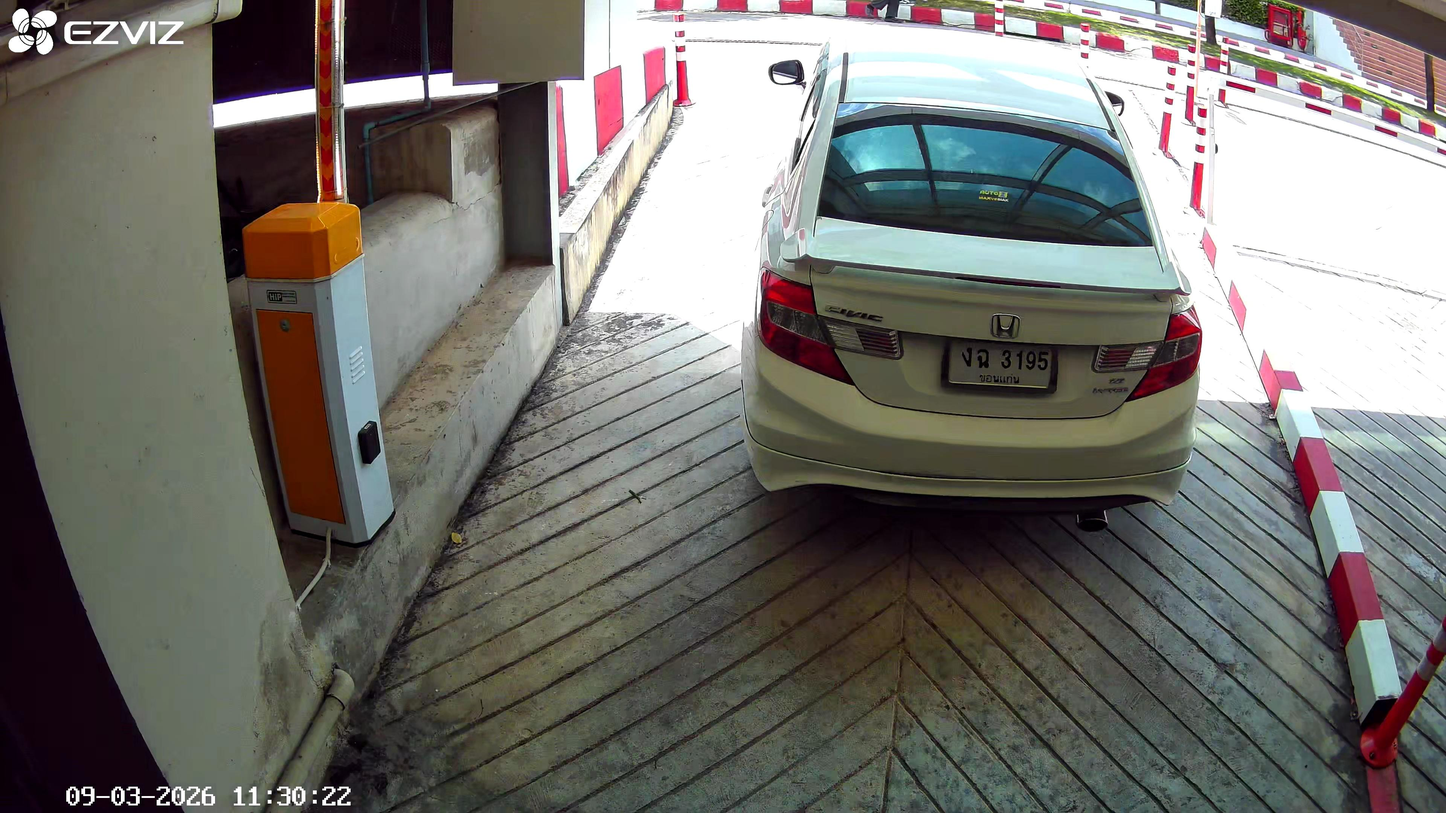car: (744, 27, 1204, 520)
license-plate: (940, 339, 1058, 394)
